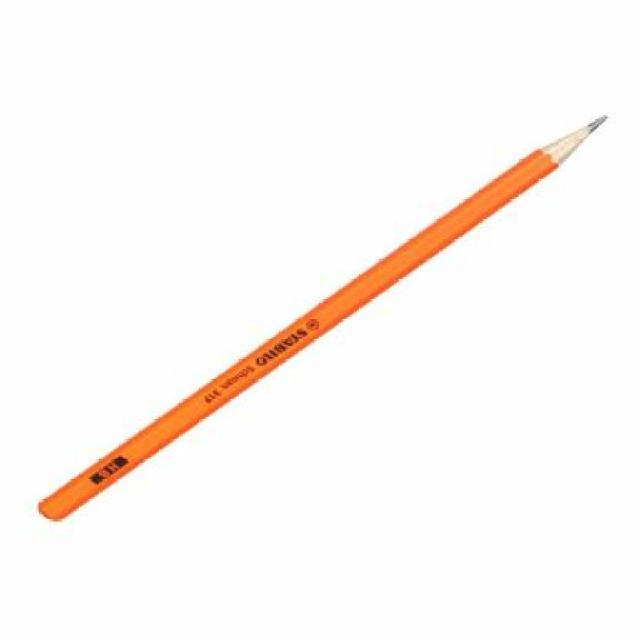Pencil: (523, 103, 620, 183)
